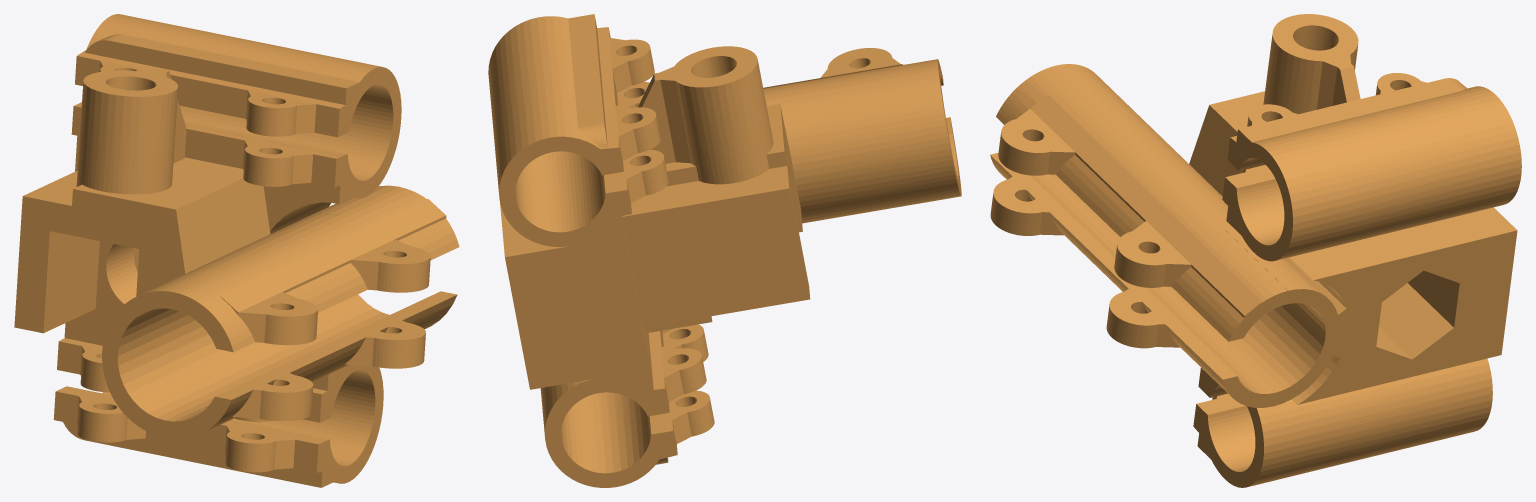
File: gear2_6.dae
3 views of the same model, side by side, from view 1: azimuth 30°, elevation 25°; view 2: azimuth 150°, elevation 25°; view 3: azimuth 270°, elevation 25° (orthographic). The views are drawn at different scales.
Parts seen in each view (by area): view 1: gear2_019; view 2: gear2_019; view 3: gear2_019.
Boxes of the visible parts, x1=… form: gear2_019: x1=14, y1=14, x2=459, y2=487; gear2_019: x1=488, y1=14, x2=961, y2=487; gear2_019: x1=990, y1=14, x2=1521, y2=487.
Bounding box in the file's own units: 0.0776 × 0.0922 × 0.0726.
